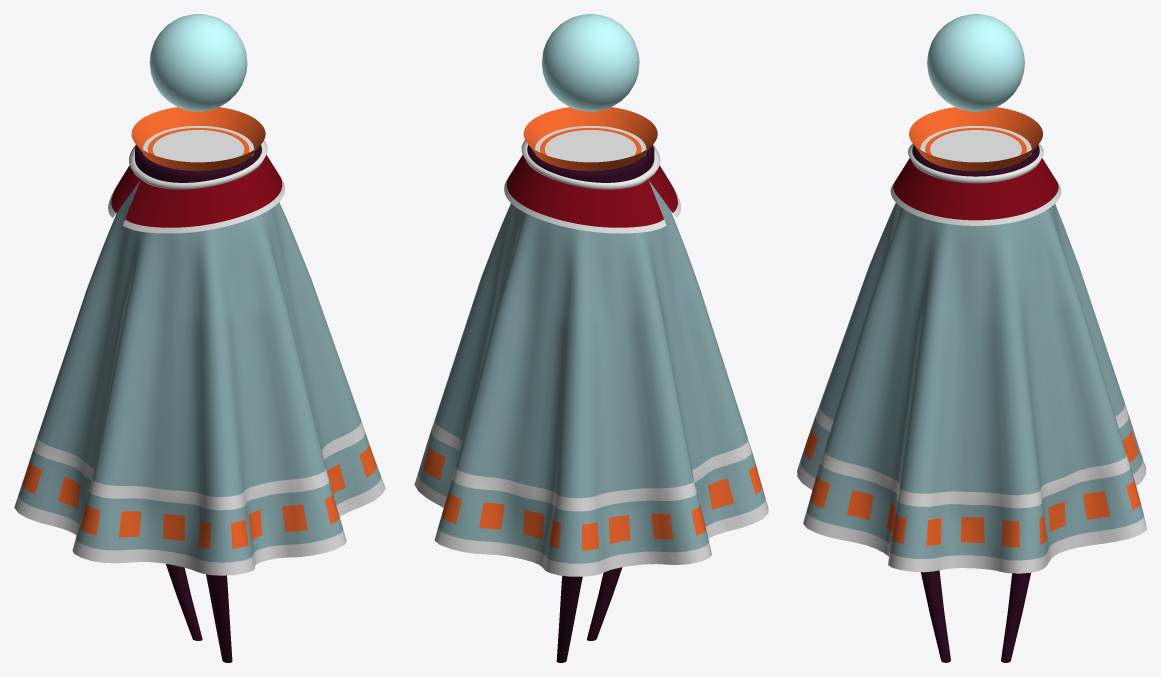
Rendered from Character model NO FLIP.fbx.
The picture shows the model from 3 angles, left to right: view 1: azimuth 30°, elevation 25°; view 2: azimuth 150°, elevation 25°; view 3: azimuth 270°, elevation 25°; orthographic projection.
Visible parts, largest first — view 1: Cylinder.012, Cylinder.014, Sphere.001, Cylinder.013, Cylinder.006, Cylinder.015; view 2: Cylinder.012, Cylinder.014, Sphere.001, Cylinder.013, Cylinder.006, Cylinder.015; view 3: Cylinder.012, Cylinder.014, Sphere.001, Cylinder.013, Cylinder.006, Cylinder.015.
Part boxes in pixels (x1,y1,x2,y2): Cylinder.012: (14, 154, 385, 575); Cylinder.014: (108, 140, 284, 233); Sphere.001: (149, 14, 247, 111); Cylinder.013: (131, 107, 265, 171); Cylinder.006: (166, 564, 232, 662); Cylinder.015: (135, 145, 261, 182); Cylinder.012: (414, 153, 768, 576); Cylinder.014: (504, 140, 680, 233); Sphere.001: (542, 14, 639, 111); Cylinder.013: (523, 107, 657, 171); Cylinder.006: (556, 567, 622, 662); Cylinder.015: (527, 145, 654, 182); Cylinder.012: (797, 153, 1146, 573); Cylinder.014: (890, 144, 1061, 225); Sphere.001: (927, 14, 1024, 111); Cylinder.013: (909, 107, 1042, 171); Cylinder.006: (921, 570, 1030, 662); Cylinder.015: (912, 145, 1039, 176).
Bounding box in the file's own units: 102 × 205 × 102.
